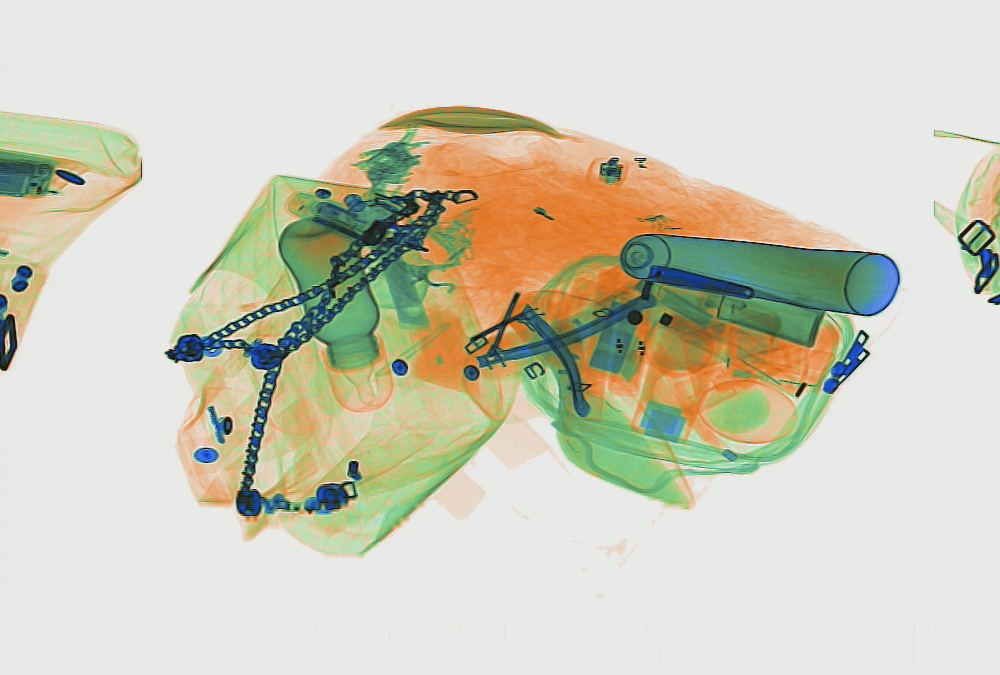pressure: (606, 229, 901, 318)
